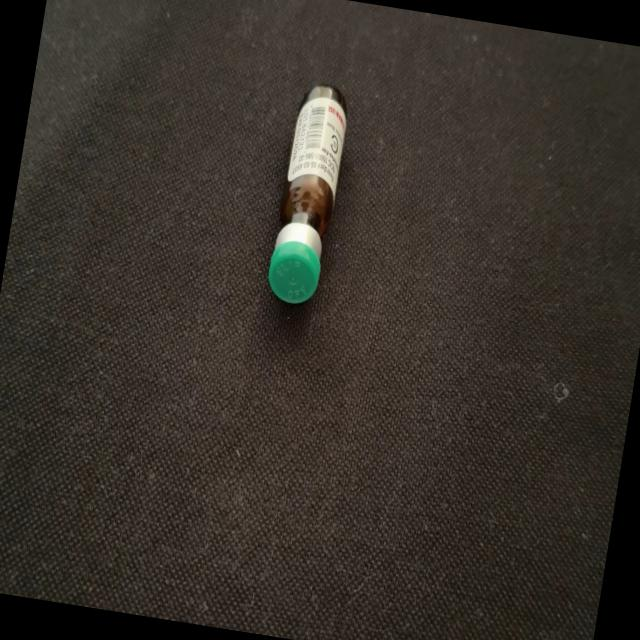midazolm: (266, 83, 352, 305)
